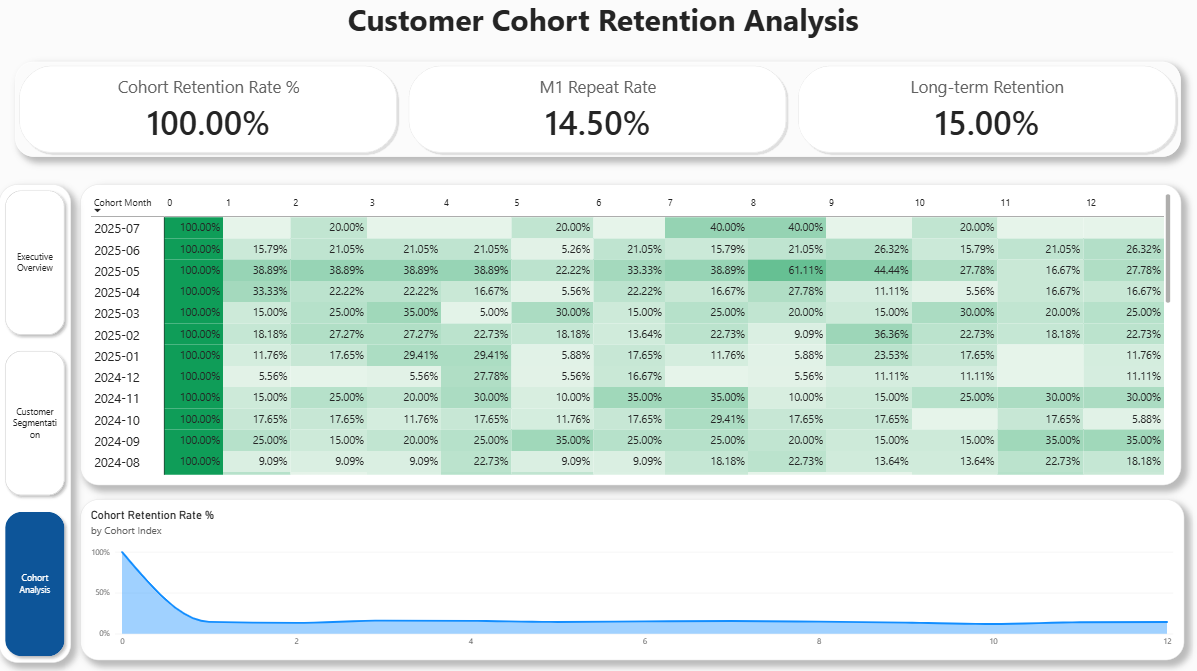

Layout of this report page (visuals, bound fields, positions):
{"tool":"powerbi","page":{"name":"Cohort Analysis","canvas":[1920,1080],"ordinal":2},"visuals":[{"type":"pivotTable","fields":{"Columns":["fact_orders.Cohort Index"],"Rows":["fact_orders.Cohort Month"],"Values":["_Measures.Cohort Retention Rate %"]},"box":[129.7,298.5,1761.9,481.6],"z":0},{"type":"cardVisual","fields":{"Data":["_Measures.Cohort Retention Rate %","_Measures.M1 Repeat Rate","_Measures.Long-term Retention"]},"box":[26.8,102.9,1864.8,152.3],"z":1000},{"type":"areaChart","fields":{"Category":["fact_orders.Cohort Index"],"Y":["_Measures.Cohort Retention Rate %"]},"box":[129.7,802.7,1766,257.3],"z":2000},{"type":"textbox","box":[407.5,0,1117.7,102.9],"z":3000},{"type":"pageNavigator","box":[0,298.5,115.3,765.7],"z":3001}]}

Visuals, with their boxes in screenshot pixels (x1, y1, x2, y2), scaled from the page's 1920x1080 canvas onto the 1197x671 screenshot:
pivotTable - fact_orders.Cohort Index x fact_orders.Cohort Month: (left=81, top=185, right=1179, bottom=485)
cardVisual - _Measures.Cohort Retention Rate % x _Measures.M1 Repeat Rate: (left=17, top=64, right=1179, bottom=159)
areaChart - fact_orders.Cohort Index x _Measures.Cohort Retention Rate %: (left=81, top=499, right=1182, bottom=659)
textbox: (left=254, top=0, right=951, bottom=64)
pageNavigator: (left=0, top=185, right=72, bottom=661)
